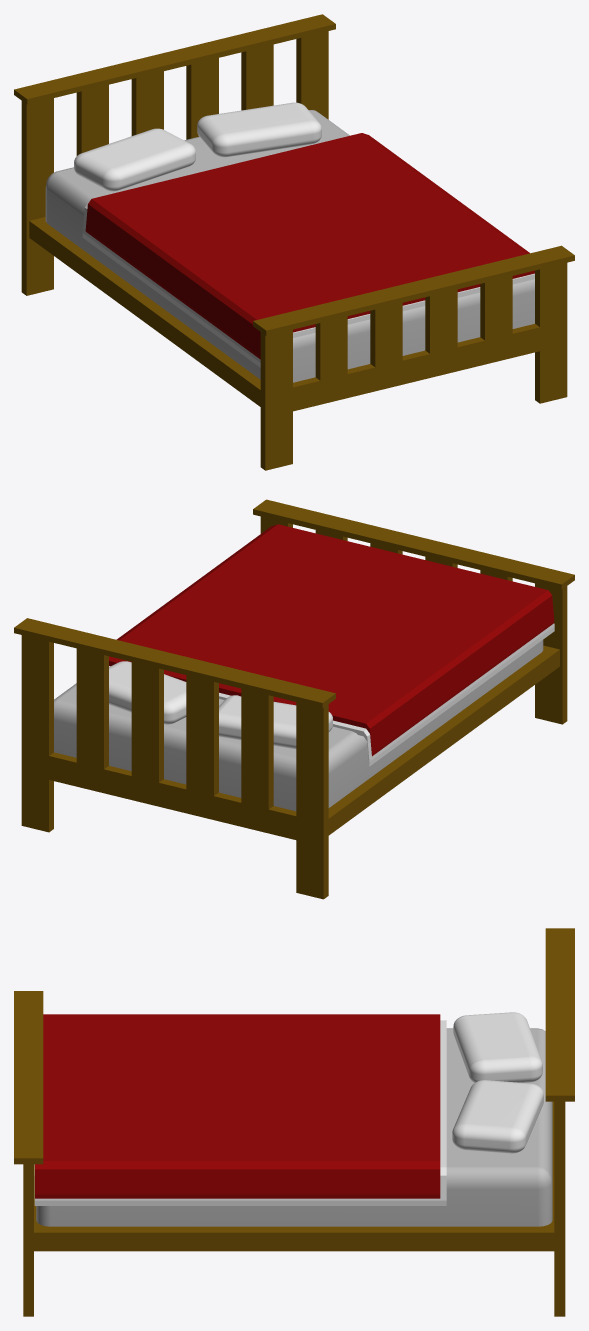
The model's file is Bed.fbx.
3 views of the same model, one above another, from view 1: azimuth 30°, elevation 25°; view 2: azimuth 150°, elevation 25°; view 3: azimuth 270°, elevation 25° (orthographic). The views are drawn at different scales.
Parts seen in each view (by area): view 1: pCube5, pCube2, pasted__pCube2, pasted__pCube1, pCube1, pasted__pCube3, pCube3, pasted__pCube4, pCube4, pasted__pCube5; view 2: pCube5, pasted__pCube2, pasted__pCube1, pCube1, pasted__pCube3, pCube3, pCube2, pCube4, pasted__pCube5, pasted__pCube4; view 3: pCube5, pasted__pCube1, pCube1, pasted__pCube4, pasted__pCube3, pCube3, pCube4, pasted__pCube5, pasted__pCube2, pCube2.
Boxes of the visible parts, x1=… form: pCube5: x1=85, y1=133, x2=534, y2=359; pCube2: x1=260, y1=263, x2=567, y2=470; pasted__pCube2: x1=21, y1=31, x2=328, y2=295; pasted__pCube1: x1=45, y1=110, x2=534, y2=382; pCube1: x1=29, y1=217, x2=260, y2=406; pasted__pCube3: x1=14, y1=14, x2=335, y2=104; pCube3: x1=253, y1=245, x2=574, y2=335; pasted__pCube4: x1=197, y1=102, x2=321, y2=157; pCube4: x1=74, y1=128, x2=195, y2=191; pasted__pCube5: x1=82, y1=202, x2=534, y2=367; pCube5: x1=109, y1=524, x2=554, y2=756; pasted__pCube2: x1=21, y1=635, x2=328, y2=899; pasted__pCube1: x1=54, y1=640, x2=543, y2=811; pCube1: x1=328, y1=645, x2=559, y2=835; pasted__pCube3: x1=14, y1=618, x2=335, y2=708; pCube3: x1=253, y1=499, x2=574, y2=589; pCube2: x1=260, y1=516, x2=567, y2=724; pCube4: x1=219, y1=695, x2=332, y2=749; pasted__pCube5: x1=109, y1=623, x2=554, y2=766; pasted__pCube4: x1=109, y1=661, x2=186, y2=724; pCube5: x1=35, y1=1014, x2=440, y2=1198; pasted__pCube1: x1=36, y1=1028, x2=552, y2=1226; pCube1: x1=34, y1=1101, x2=554, y2=1251; pasted__pCube4: x1=452, y1=1080, x2=543, y2=1153; pasted__pCube3: x1=545, y1=928, x2=574, y2=1101; pCube3: x1=14, y1=991, x2=43, y2=1164; pCube4: x1=453, y1=1012, x2=542, y2=1082; pasted__pCube5: x1=34, y1=1020, x2=446, y2=1205; pasted__pCube2: x1=554, y1=1101, x2=565, y2=1316; pCube2: x1=23, y1=1164, x2=33, y2=1316.
Size of the model in its own units: 13.46 by 8.36 by 19.06.
